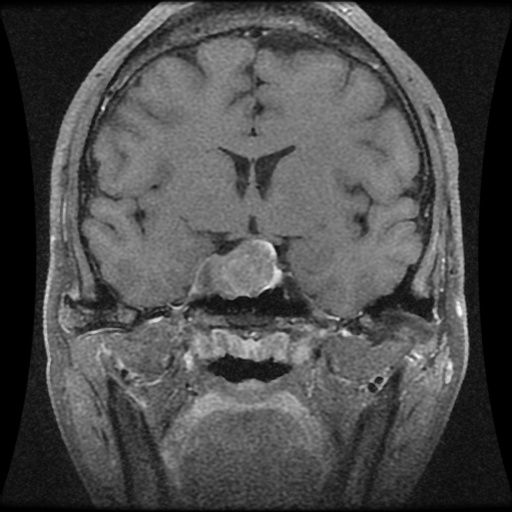pituitary: (195, 239, 283, 299)
